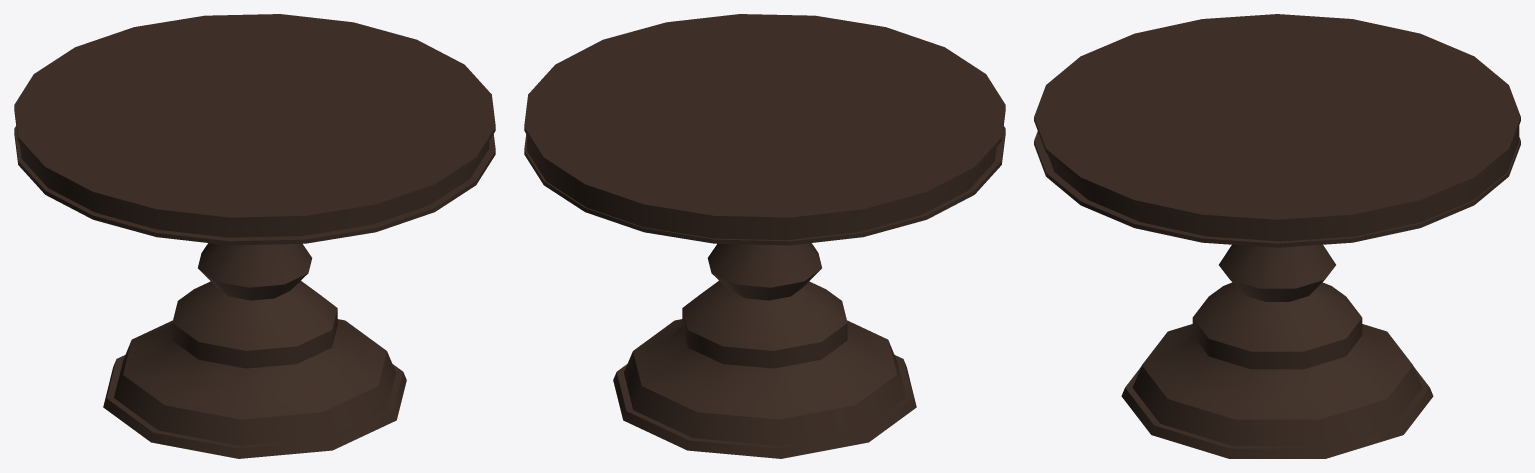
Rendered from pk_tround_espresso.glb.
The picture shows the model from 3 angles, left to right: view 1: azimuth 30°, elevation 25°; view 2: azimuth 150°, elevation 25°; view 3: azimuth 270°, elevation 25°; orthographic projection.
Parts seen in each view (by area): view 1: pk_tround_espresso; view 2: pk_tround_espresso; view 3: pk_tround_espresso.
Boxes of the visible parts, left/top/right/bottom form: pk_tround_espresso: left=14, top=14, right=495, bottom=458; pk_tround_espresso: left=524, top=14, right=1005, bottom=458; pk_tround_espresso: left=1034, top=14, right=1520, bottom=458.
Bounding box in the file's own units: 1.2 × 0.76 × 1.2.
Materials: 1 (1 with a texture image).
